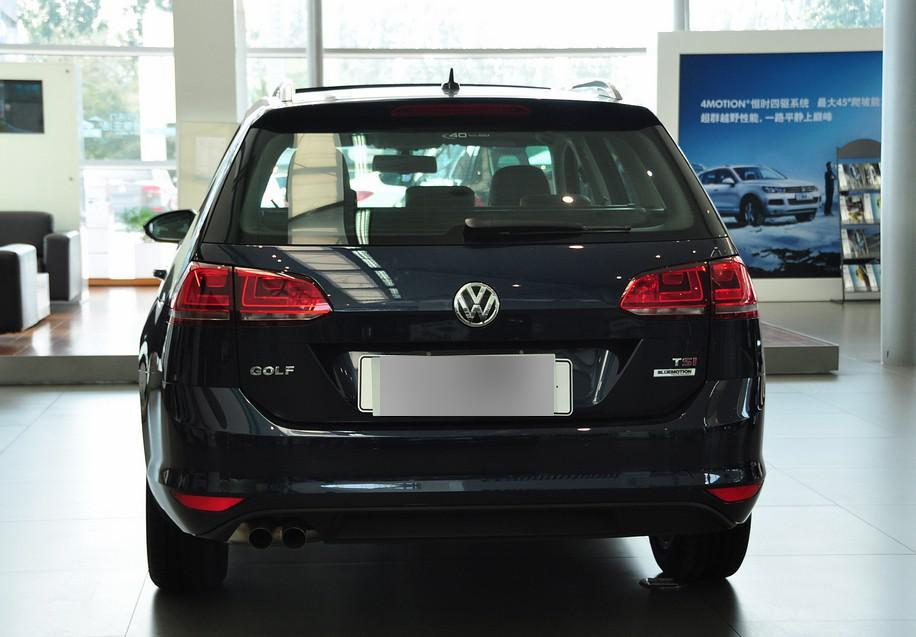Wagon: (137, 75, 766, 588)
